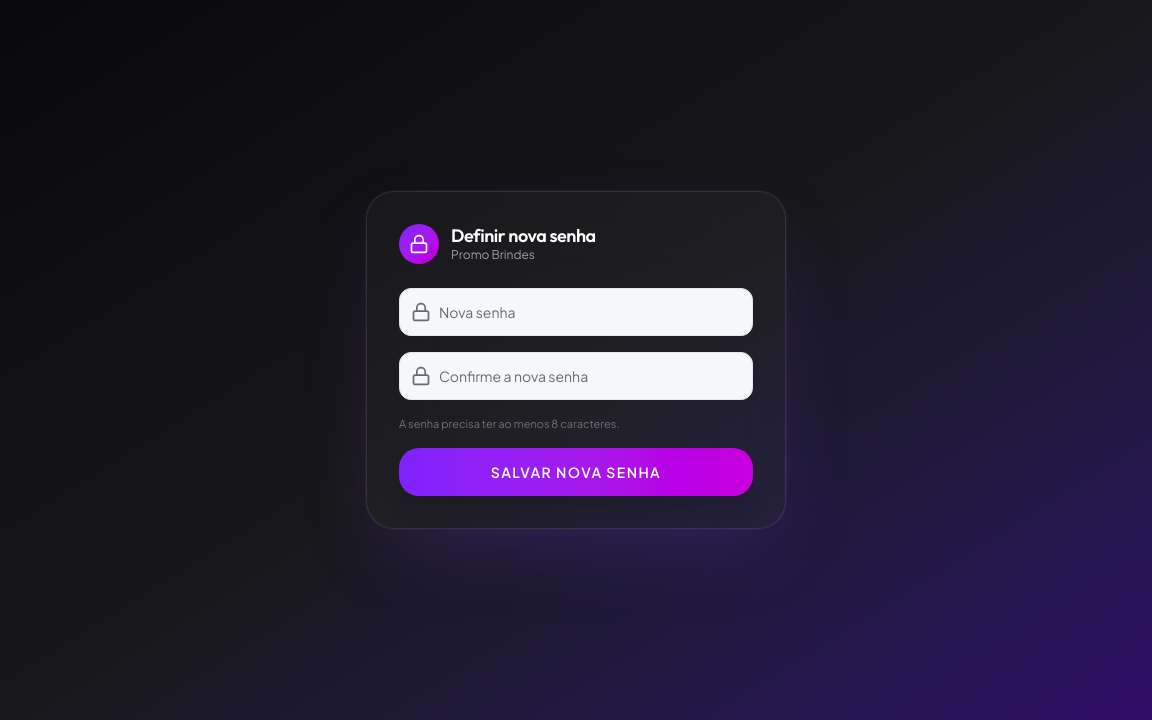
Test case: Auth: recuperacao de senha (etapa 035 / AUT-03) › sessao de recuperacao valida mostra o formulario e recusa senhas diferentes
Type "senhaNova123" into the password field labelled "Nova senha" at coordinates (576, 312), box [399,288,753,336]
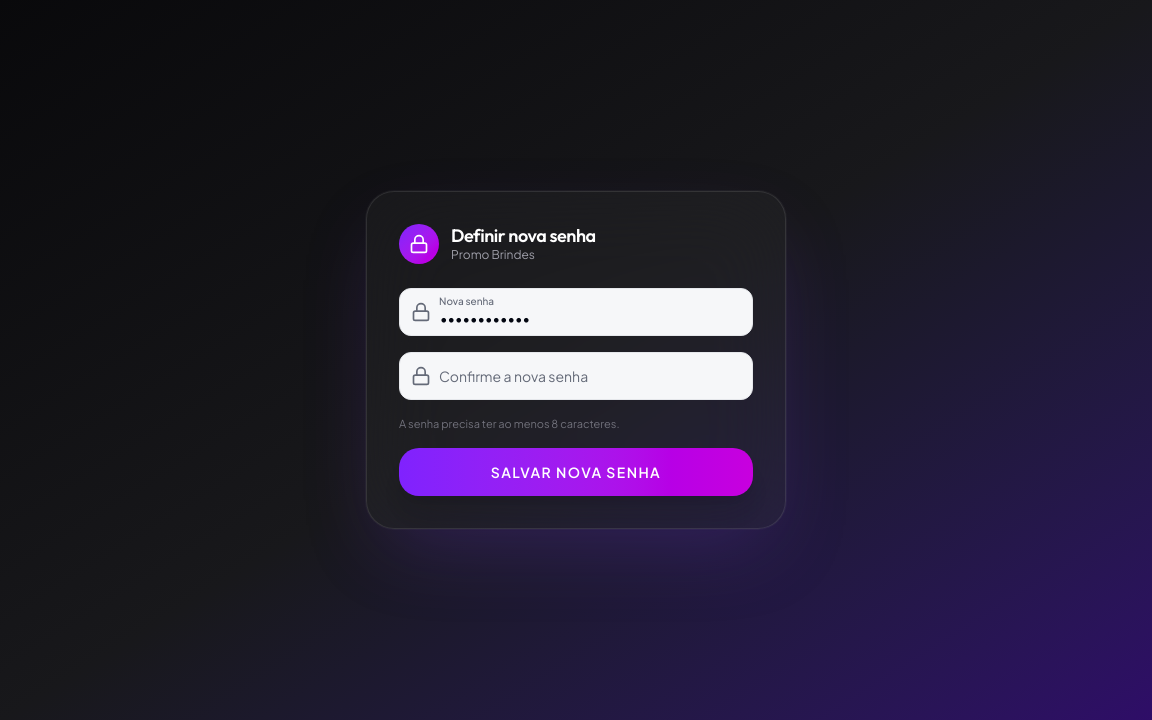
Type "senhaDiferente" into the password field labelled "Confirme a nova senha" at coordinates (576, 376), box [399,352,753,400]
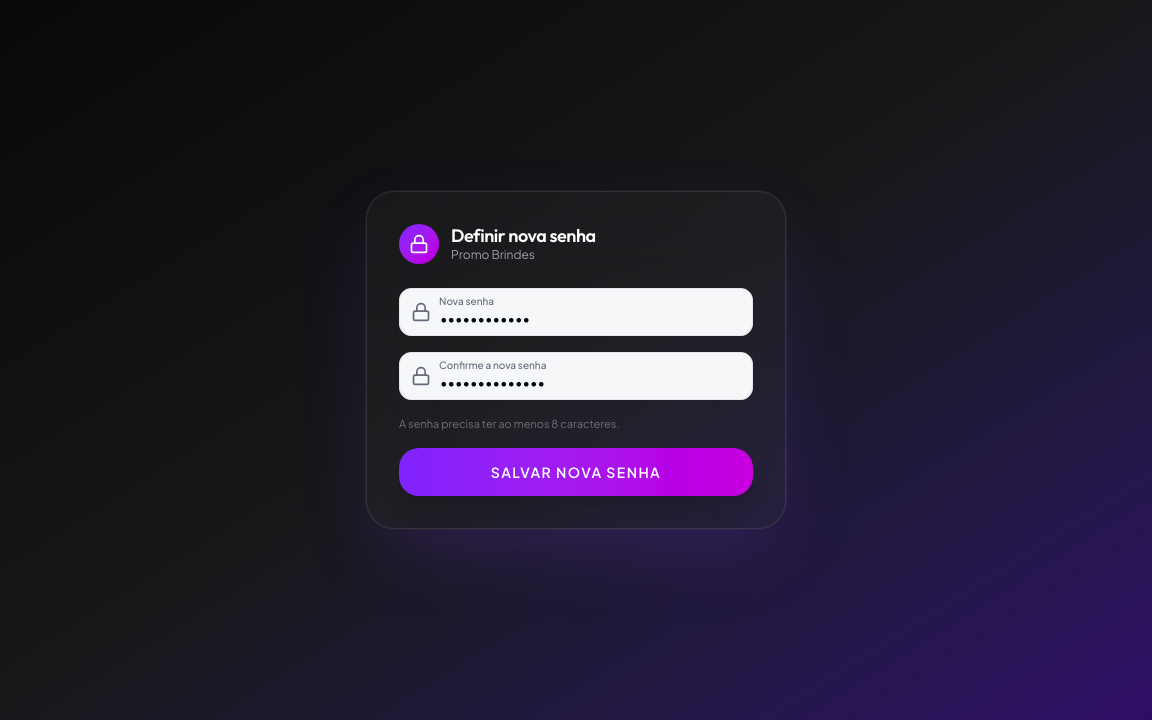
Click the button "Salvar nova senha" at coordinates (576, 472), box [399,448,753,496]
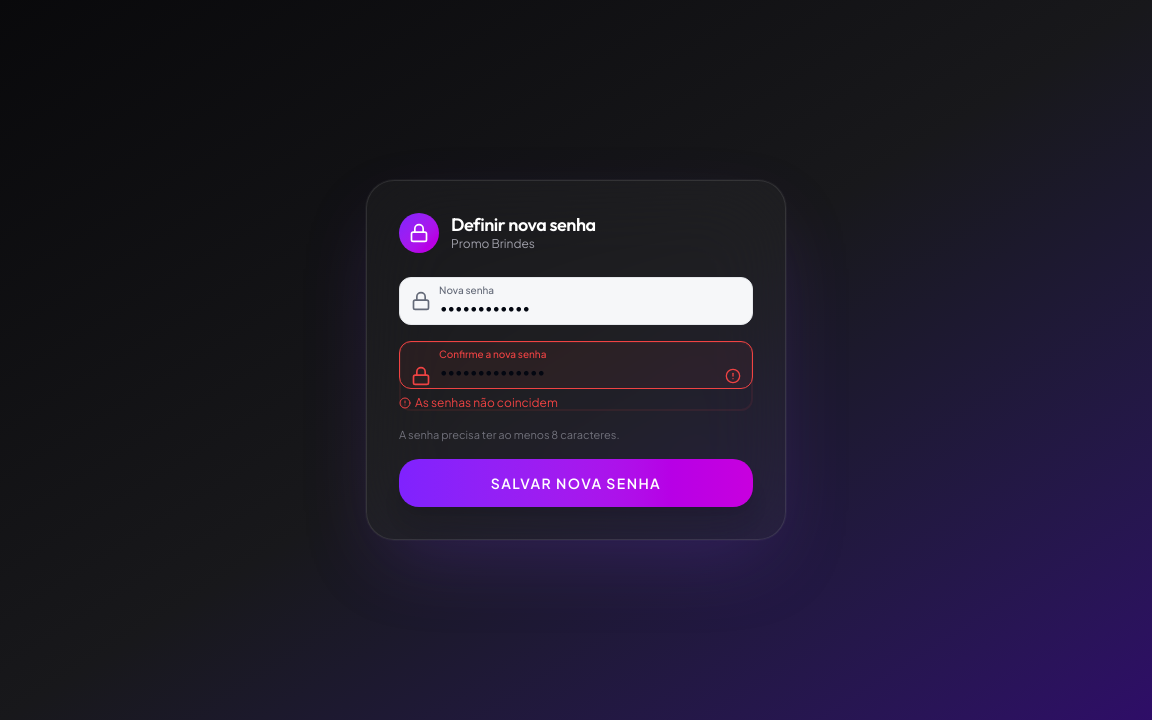
Expected: the text "As senhas não coincidem" is shown, [399,395,558,410]
